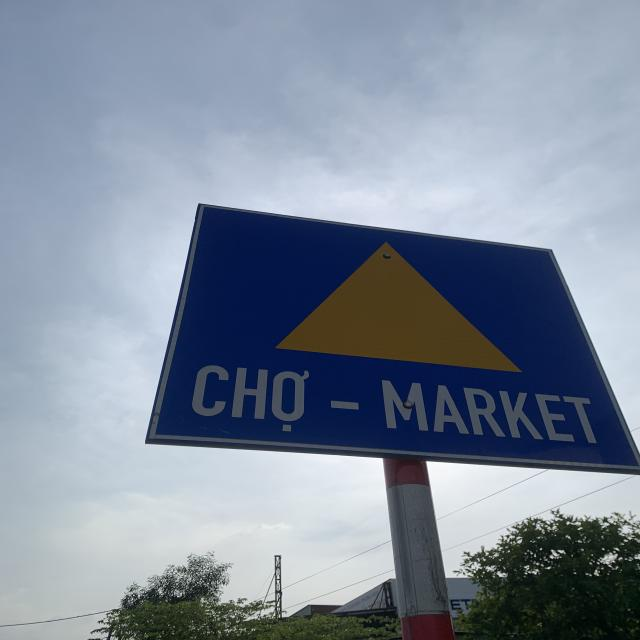Cho_Quay_Xe: (142, 198, 638, 472)
